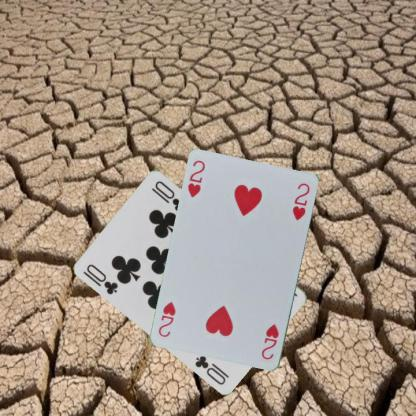10c: (84, 262, 120, 296)
2h: (185, 158, 207, 199), (259, 321, 280, 361)
